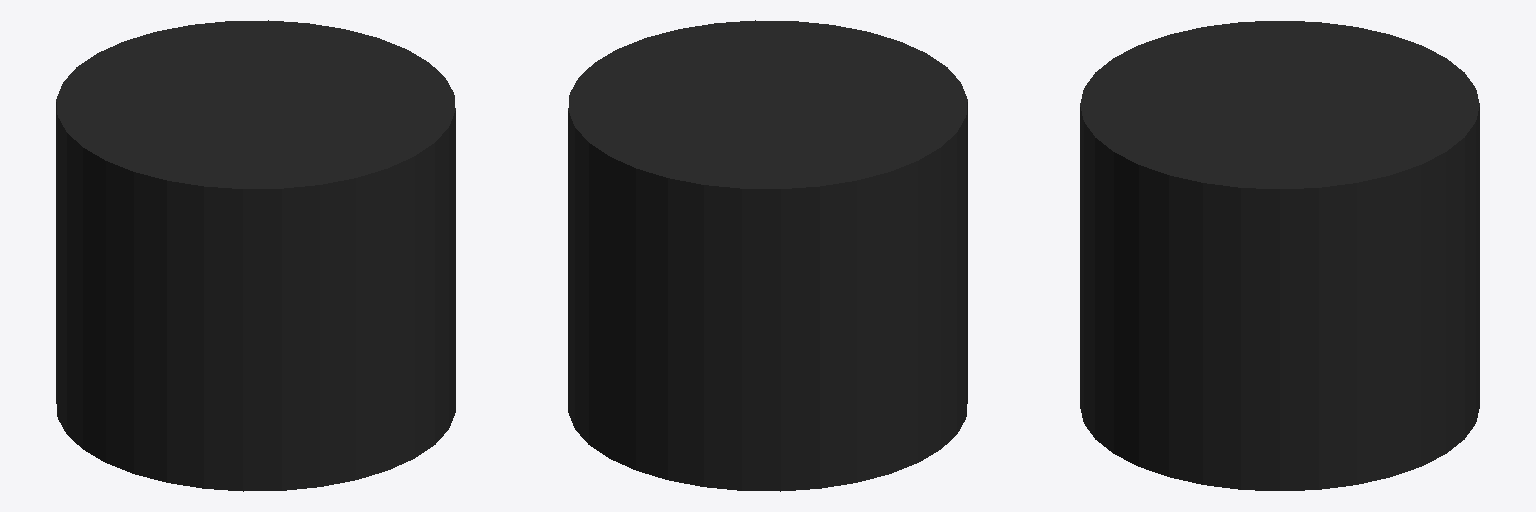
The robot description file, URDF, robot "head_2d":
<robot name="head_2d">

  <material name="orange">
    <color rgba="1.0 0.5 0.2 1" />
  </material>
  <material name="gray">
    <color rgba="0.2 0.2 0.2 1" />
  </material>

  <link name="odom">
    <visual>
      <origin xyz="0 0 0" />
      <geometry>
        <box size="0.06 0.04 0.02" />
      </geometry>
      <material name="orange" />
    </visual>
  </link>

  <link name="lidar_point_link">
    <visual>
      <origin xyz="0 0 0" />
      <geometry>
        <cylinder length="0.5" radius="0.3" />
      </geometry>
      <material name="gray" />
    </visual>
  </link>


  <link name="base_link" />

  <joint name="imu_link_joint" type="fixed">
    <parent link="base_link" />
    <child link="odom"/>
    <origin xyz="0 0 0" />
  </joint>

  <joint name="horizontal_laser_link_joint" type="fixed">
    <parent link="base_link" />
    <child link="lidar_point_link" />
    <origin xyz="0.1007 0 0.0558" />
  </joint>
</robot>

--- Facts derived from the render (not from the file) ---
3 views of the same robot in one strip: view 1: azimuth 30°, elevation 25°; view 2: azimuth 150°, elevation 25°; view 3: azimuth 270°, elevation 25° (orthographic).
Model head_2d with 3 links and 2 joints (2 fixed), rooted at base_link, posed all joints at 0.
Visible links, largest first — view 1: lidar_point_link; view 2: lidar_point_link; view 3: lidar_point_link.
Link boxes in pixels (bbox=[...]): lidar_point_link: bbox=[56, 20, 455, 491]; lidar_point_link: bbox=[568, 20, 967, 491]; lidar_point_link: bbox=[1080, 21, 1479, 490].
Bounding box of the posed robot: 0.6 × 0.6 × 0.5 m (x, y, z).
Geometry: primitives only (box / cylinder / sphere), no mesh files.